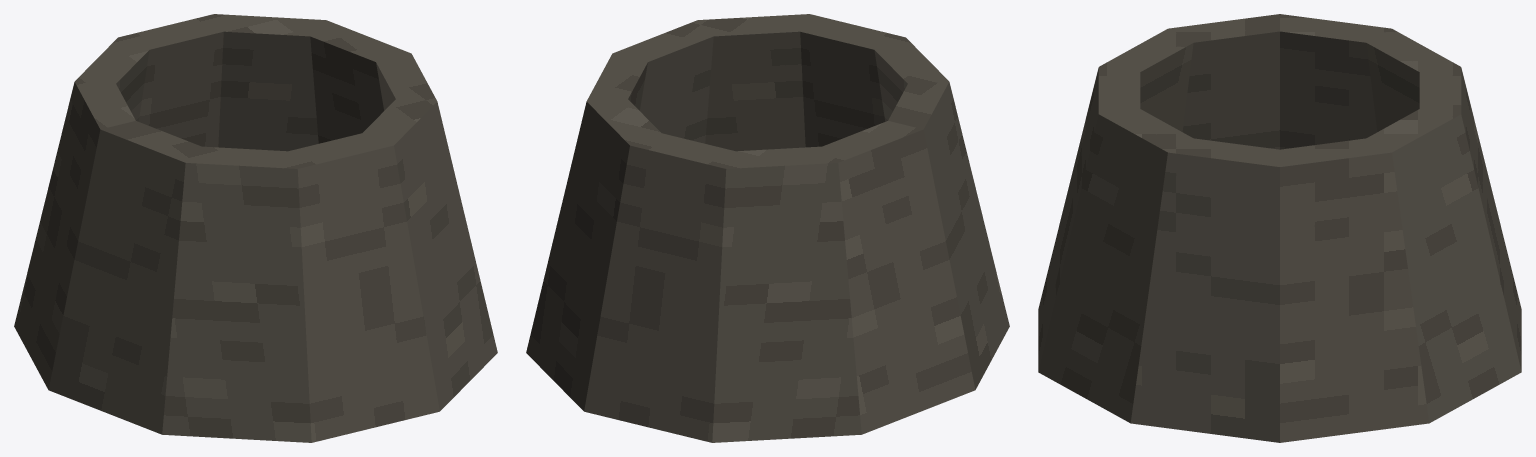
Rendered from fieltro.glb.
The picture shows the model from 3 angles, left to right: view 1: azimuth 30°, elevation 25°; view 2: azimuth 150°, elevation 25°; view 3: azimuth 270°, elevation 25°; orthographic projection.
Parts seen in each view (by area): view 1: gola; view 2: gola; view 3: gola.
Boxes of the visible parts, <box> form: gola: <box>14,14,497,442</box>; gola: <box>526,14,1009,442</box>; gola: <box>1038,14,1521,442</box>.
Bounding box in the file's own units: 0.35 × 0.2 × 0.35.
Materials: 1 (1 with a texture image).
